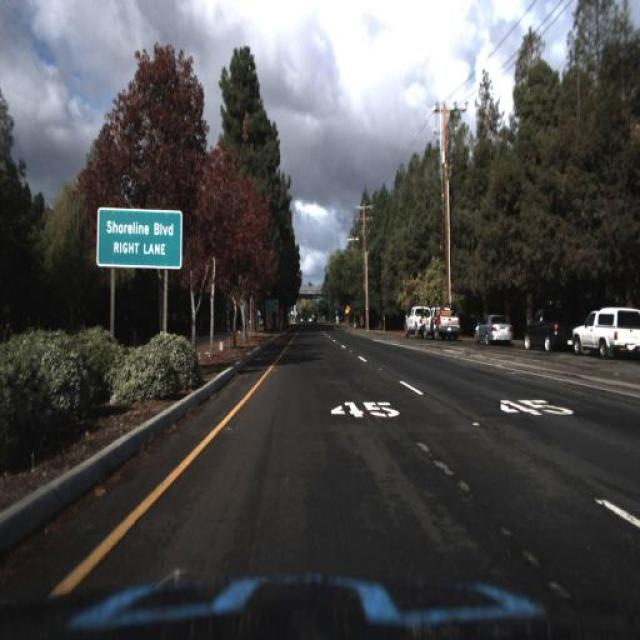car: (572, 305, 638, 356), (517, 311, 569, 353), (426, 304, 464, 342), (474, 312, 510, 348), (406, 304, 434, 342), (477, 315, 514, 343)
